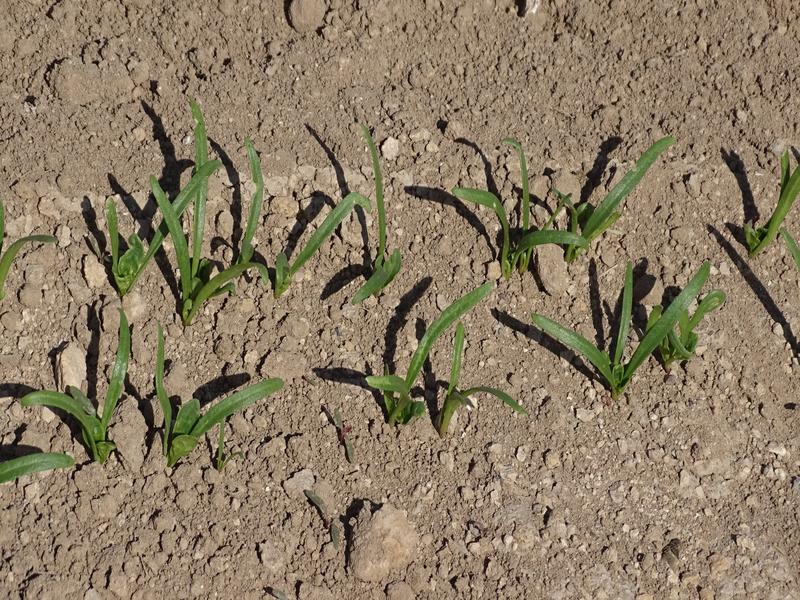Espinaca: (114, 118, 349, 288), (466, 132, 678, 261), (542, 260, 720, 380), (371, 273, 504, 428), (145, 327, 281, 466), (35, 309, 129, 460), (355, 126, 400, 302), (744, 147, 800, 249)
